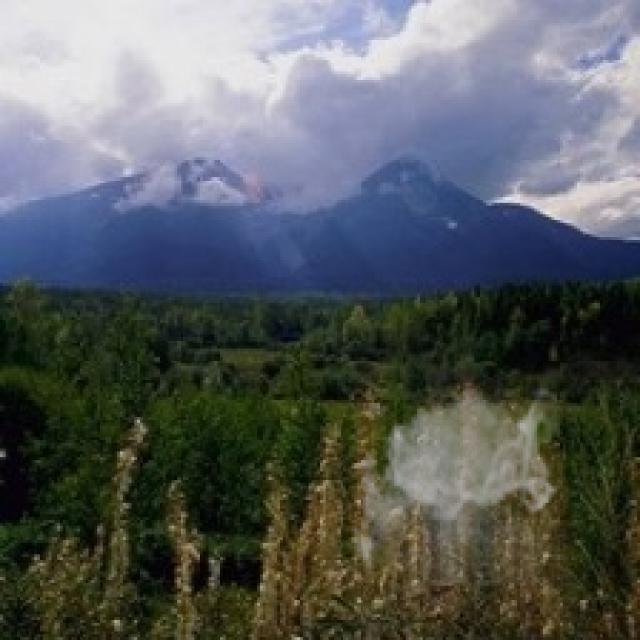smoke: (346, 377, 557, 586)
